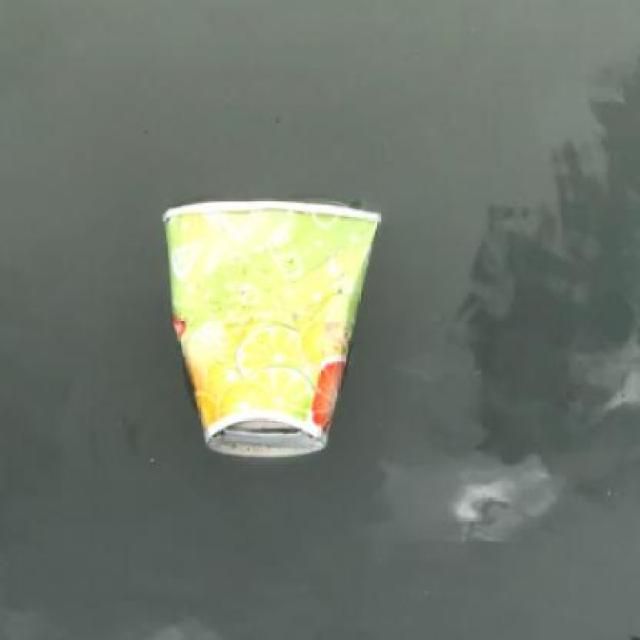Plastic cup: (154, 189, 400, 463)
